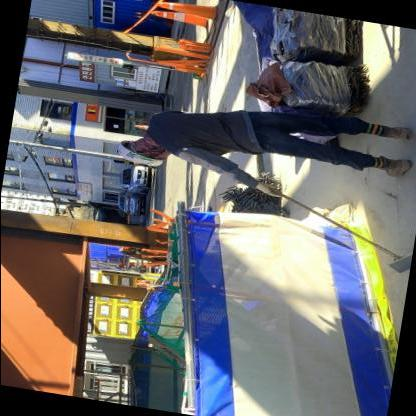Helmet: (114, 141, 165, 176)
safety-shoe: (366, 151, 415, 191), (365, 115, 415, 146)
